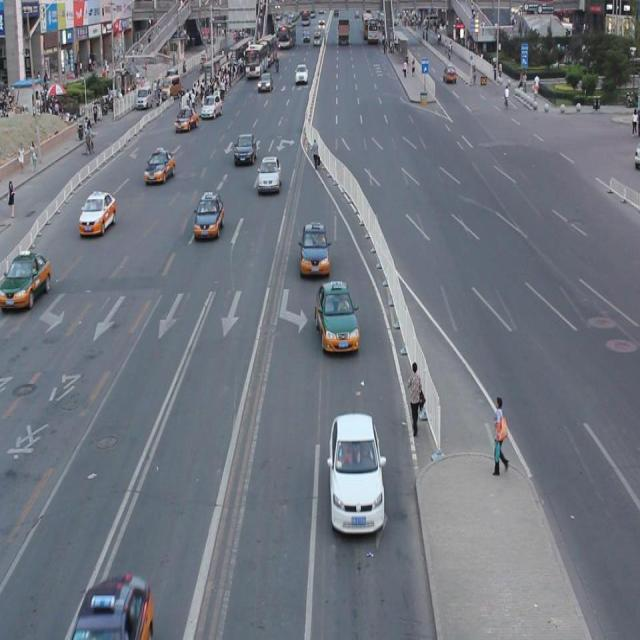car: (327, 408, 386, 534), (70, 570, 154, 640), (314, 278, 359, 354), (0, 250, 52, 312), (297, 221, 330, 277), (78, 190, 118, 236), (193, 190, 224, 240), (144, 145, 176, 184), (256, 154, 281, 193), (232, 130, 256, 167)
